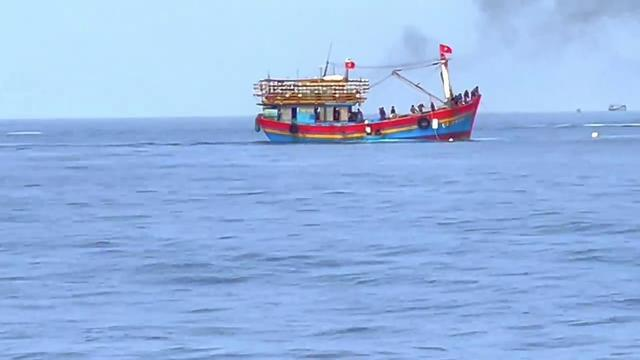Ship: (249, 61, 485, 152)
